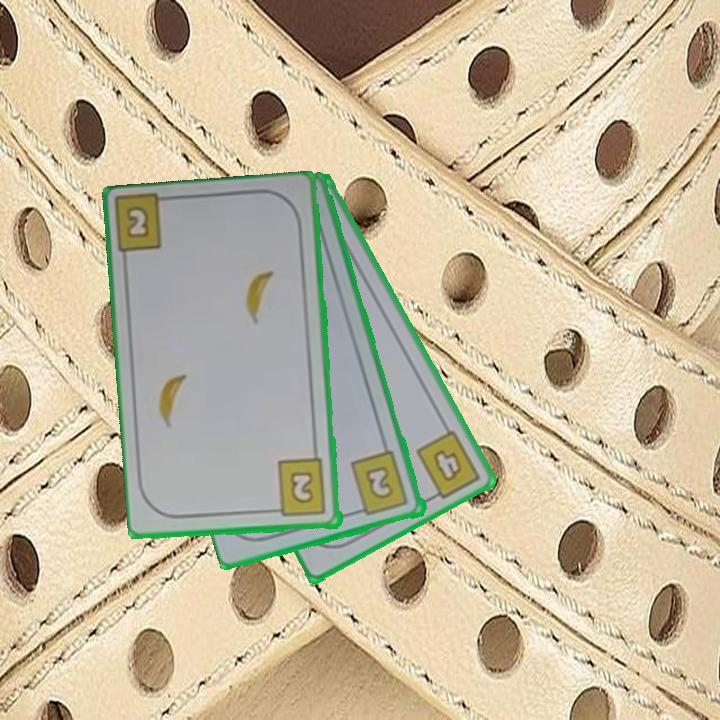2b: (347, 448, 412, 519), (268, 456, 329, 520), (122, 202, 153, 242)
4b: (412, 426, 484, 505)
